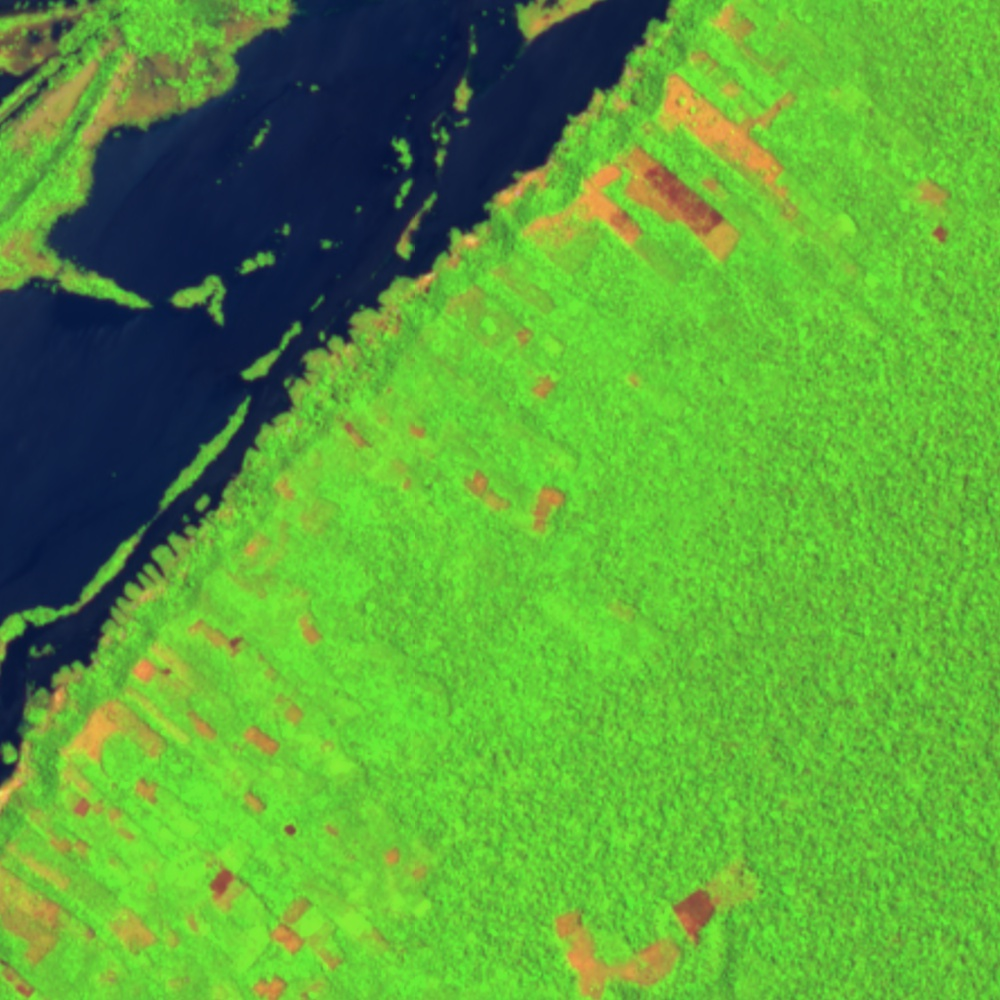legal: (1, 1, 281, 287), (517, 145, 742, 281), (658, 66, 806, 223), (342, 224, 494, 364), (440, 264, 555, 401), (549, 904, 680, 1000), (194, 614, 304, 723), (135, 494, 237, 608), (1, 861, 97, 969), (40, 621, 131, 727), (59, 756, 162, 841), (669, 854, 761, 946), (686, 5, 776, 95), (68, 699, 170, 764), (267, 891, 347, 973), (500, 135, 571, 209), (130, 639, 201, 696), (6, 836, 73, 894), (909, 176, 962, 244), (202, 854, 254, 916), (30, 805, 88, 860), (1, 738, 42, 809), (106, 907, 159, 957), (461, 466, 515, 514), (528, 484, 568, 536), (384, 844, 430, 882), (321, 738, 360, 777), (241, 723, 280, 757), (253, 970, 289, 1000), (185, 710, 218, 739), (342, 420, 373, 450), (297, 614, 324, 648), (406, 412, 430, 444), (243, 788, 266, 814), (322, 823, 342, 835), (284, 820, 298, 836), (399, 475, 416, 487)
